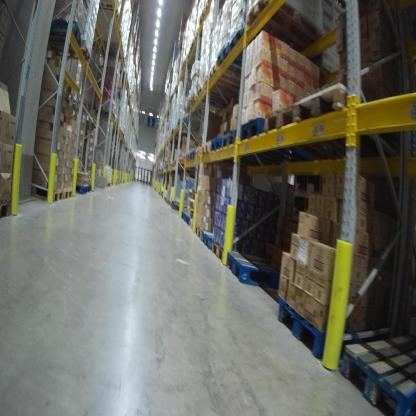pallet: (276, 288, 403, 370), (293, 81, 396, 169), (339, 322, 415, 413), (264, 105, 353, 169), (245, 1, 328, 60), (238, 115, 305, 165), (226, 248, 288, 294), (221, 131, 268, 167), (228, 26, 259, 69), (215, 43, 247, 77), (46, 18, 82, 47), (27, 179, 63, 206), (50, 39, 91, 61), (211, 135, 238, 162), (208, 237, 229, 264), (200, 227, 220, 251), (99, 2, 121, 19), (73, 175, 89, 196), (61, 186, 76, 203), (201, 136, 212, 158), (1, 197, 12, 219), (195, 144, 203, 161), (182, 151, 190, 167), (194, 224, 202, 240), (189, 151, 196, 162)
